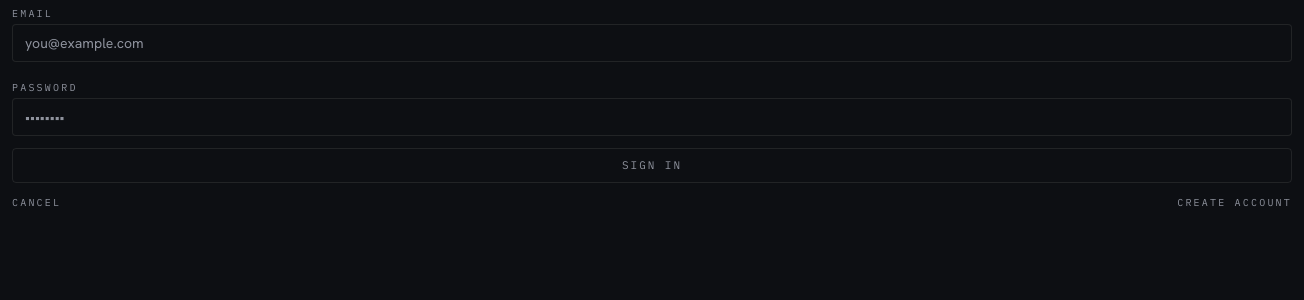
Test: EmailAuthForm › mode switching › switches back to sign-in mode when 'Sign in instead' is clicked
Click the button "Create account" at (1235, 202), box x1=1177 y1=194 x2=1292 y2=210
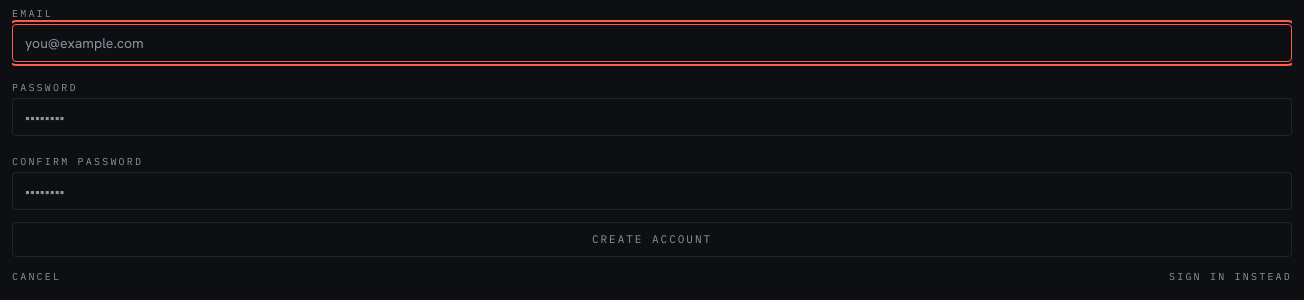
Click the button "Sign in instead" at (1230, 276), box x1=1169 y1=268 x2=1292 y2=284
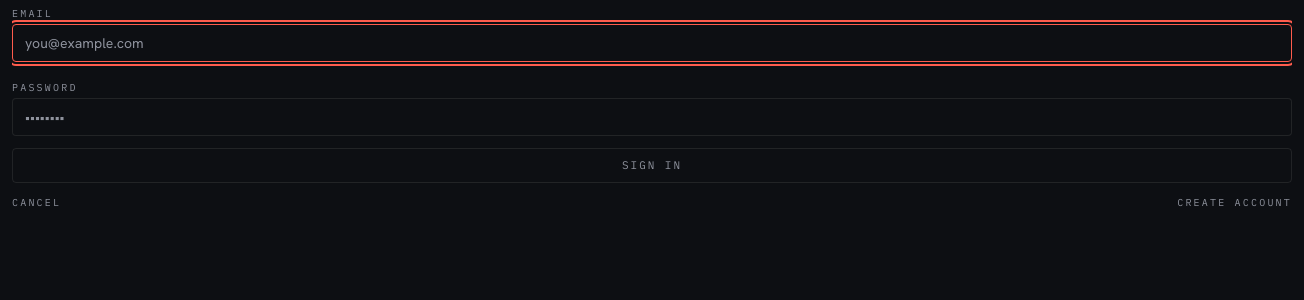
expect the label labelled "Confirm password" is gone: met
expect the button "Sign in" is shown: met, box x1=12 y1=148 x2=1292 y2=182
